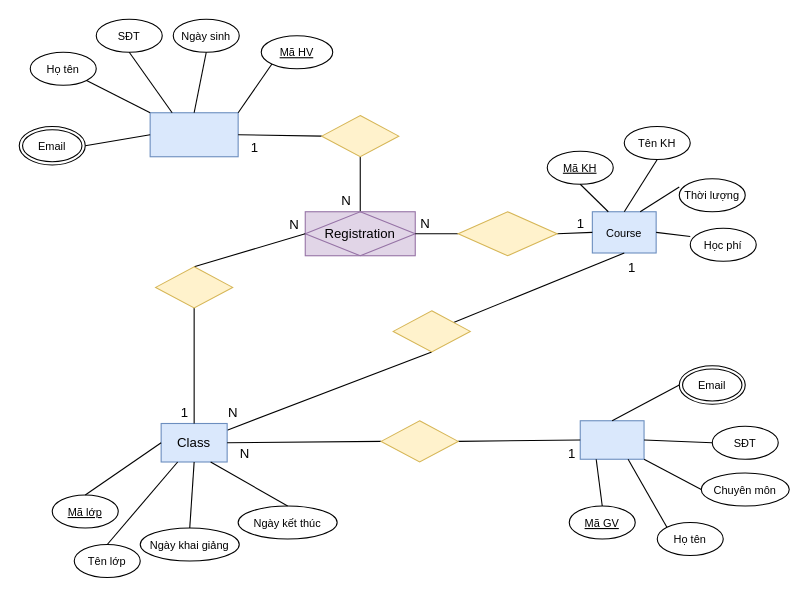
This 809x597 diagram has some shape labels left out. Each missing label, with the box of its shape:
Mở lớp: (392, 310, 470, 352)
Phụ trách: (380, 420, 458, 462)
Student: (149, 112, 238, 157)
Teacher: (579, 420, 644, 459)
Tham chiếu: (457, 211, 557, 256)
Thực hiện: (321, 114, 399, 157)
Xếp lớp: (155, 266, 233, 308)
